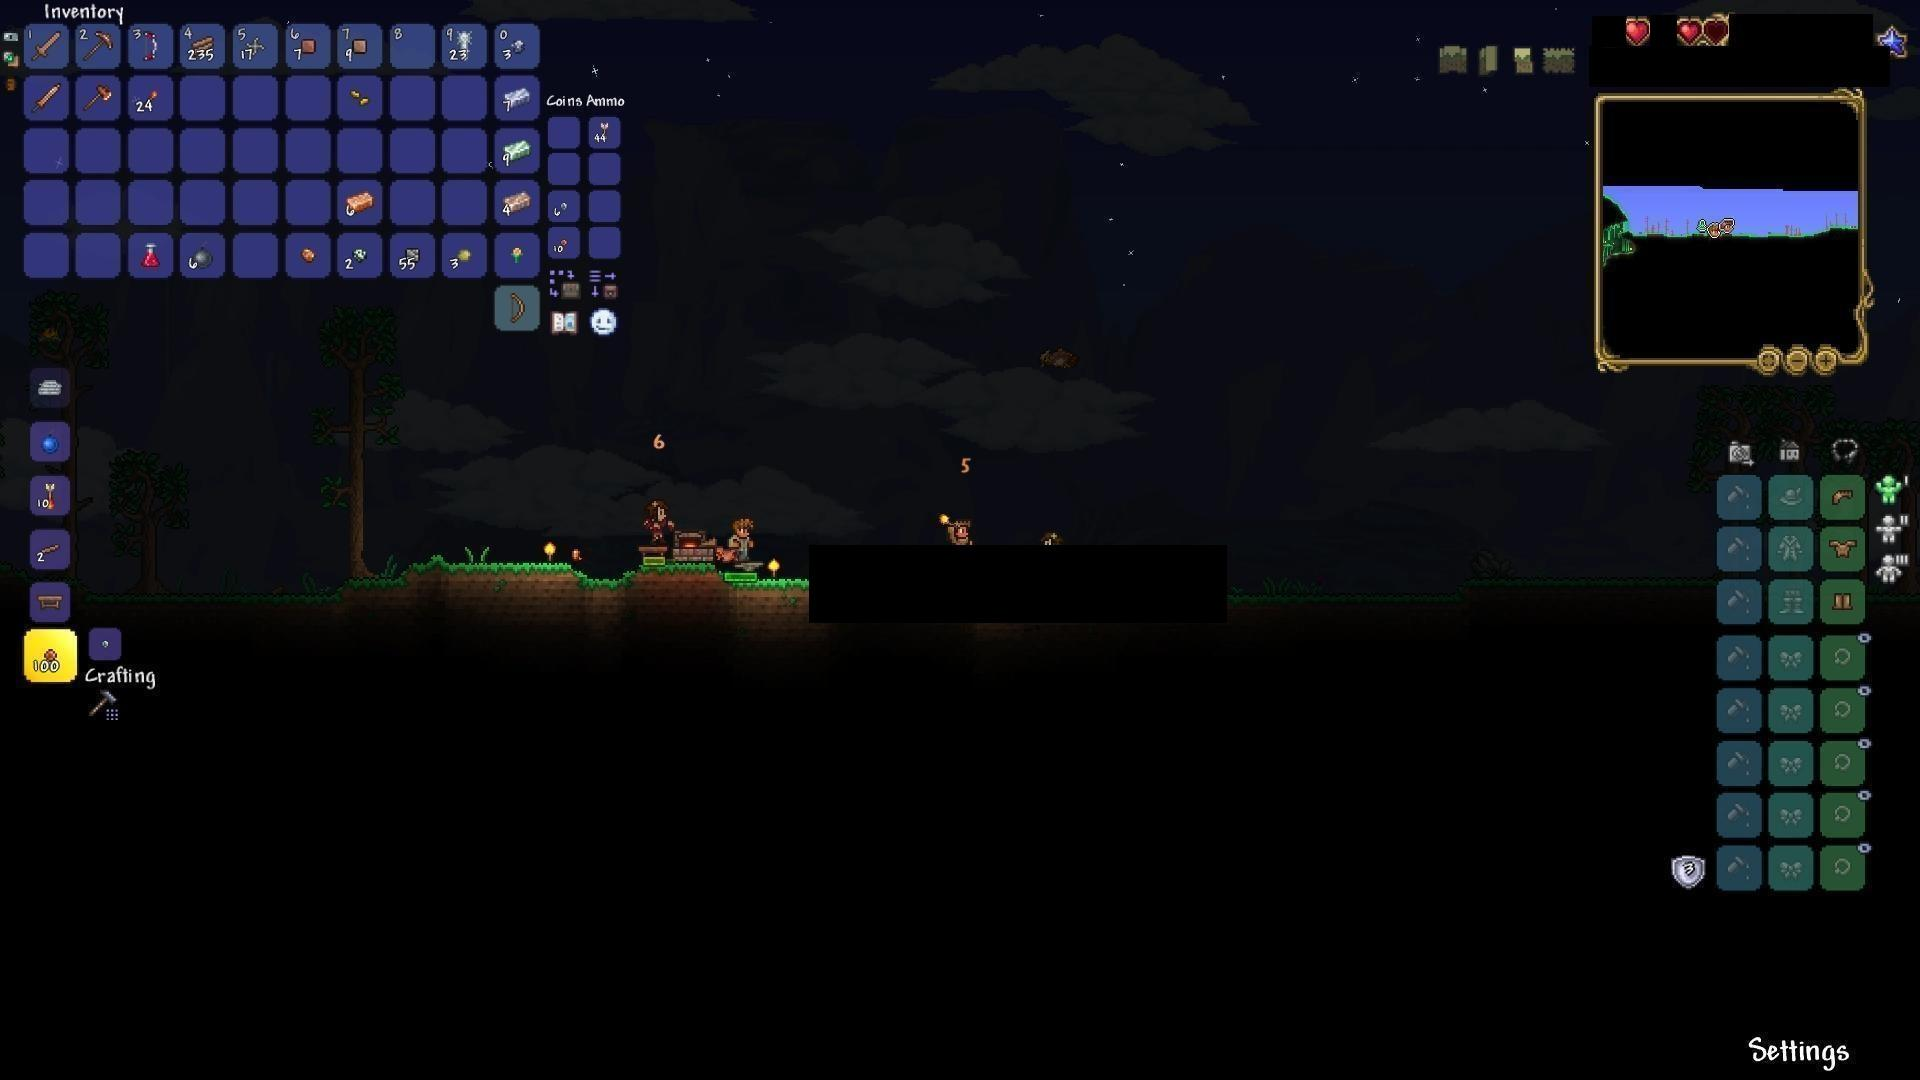dirt: (331, 550, 637, 625), (617, 556, 823, 608)
heart: (1676, 15, 1704, 50), (1625, 15, 1651, 44)
